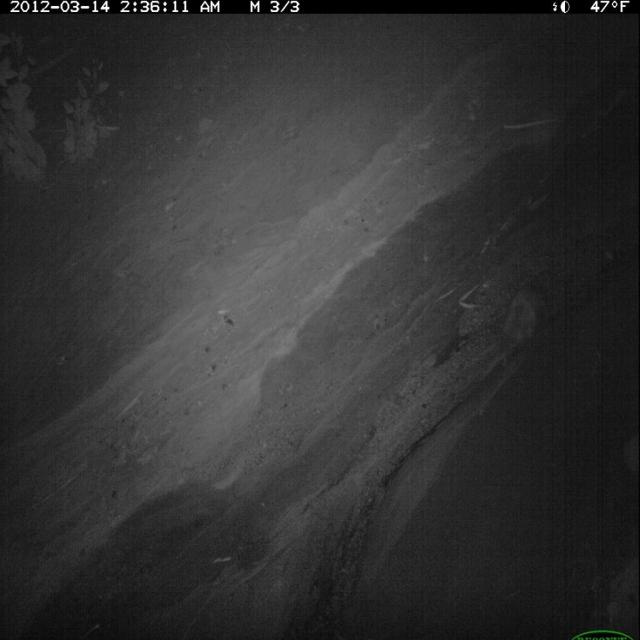opossum: (496, 275, 549, 378)
